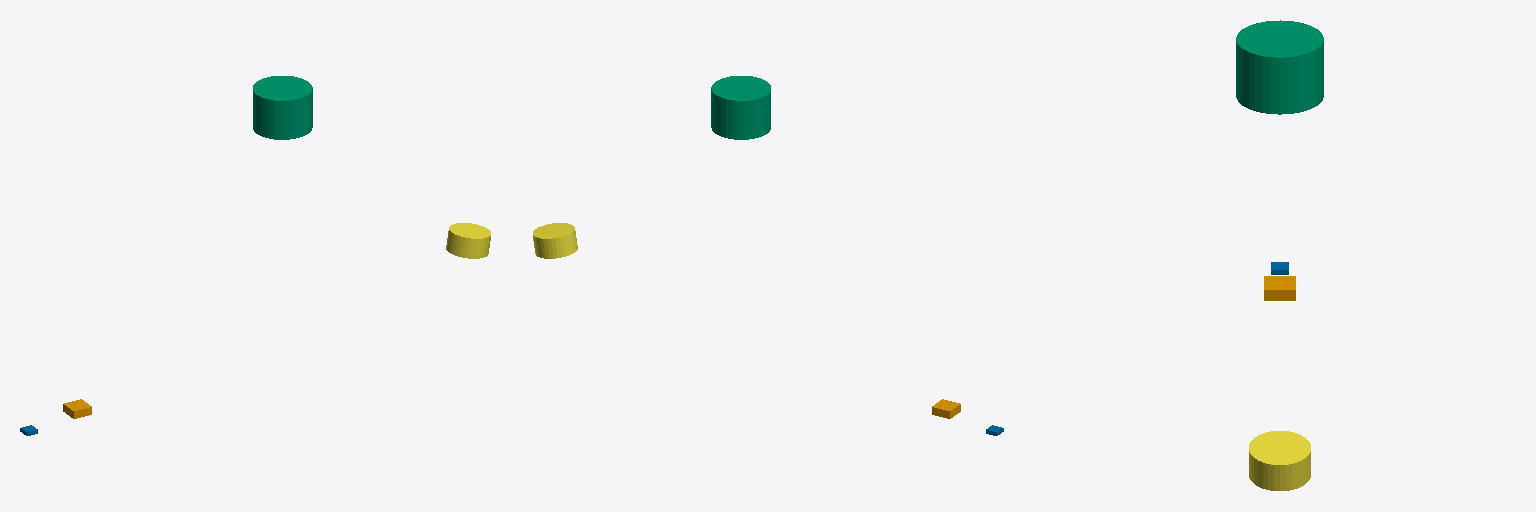
URDF robot description (BLUE):
<?xml version="1.0"?>

<robot name="BLUE">

<link name="base_link">

  <visual name='visual'>
    <geometry>
      <box size="0.05 0.05 0.02"/>
    </geometry>
  </visual>

  <collision name='collision'>
    <geometry>
      <box size="0.05 0.05 0.02"/>
    </geometry>
  </collision>

</link>

<link name="gps"/>

<link name='velodyne'>

  <visual name='visual'>
    <geometry>
      <cylinder length="0.1" radius="0.07"/>
    </geometry>
  </visual>

  <collision name='collision'>
    <geometry>
      <cylinder length="0.1" radius="0.07"/>
    </geometry>
  </collision>
  
</link>

<link name='laser'>

  <visual name='visual'>
    <geometry>
      <cylinder length="0.05" radius="0.05"/>
    </geometry>
  </visual>

  <collision name='collision'>
    <geometry>
      <cylinder length="0.05" radius="0.05"/>
    </geometry>
  </collision>
  
</link>

<link name="imu_link">

  <visual name='visual'>
    <geometry>
      <box size="0.03 0.03 0.01"/>
    </geometry>
  </visual>

  <collision name='collision'>
    <geometry>
      <box size="0.03 0.03 0.01"/>
    </geometry>
  </collision>

</link>


<joint name="base_to_velo" type="fixed">
  <parent link="base_link"/>
  <child link="velodyne"/>
  <origin rpy="0.0 0.0 -0.005" xyz="0.55 0.0 0.645"/>
</joint>

<joint name="base_to_hokuyo" type="fixed">
  <parent link="base_link"/>
  <child link="laser"/>
  <origin rpy="0.0 0.15 0.0" xyz="1.05 0.0 0.187"/>
</joint>

<joint name="base_to_imu" type="fixed">
  <parent link="base_link"/>
  <child link="imu_link"/>
  <origin rpy="0.0 0.0 0.0" xyz="-0.13 0.0 -0.025"/>
</joint>

<joint name="base_to_gps" type="fixed">
  <parent link="base_link"/>
  <child link="gps"/>
  <origin rpy="0.0 0.0 0.0" xyz="0.0 0.0 0.0"/>
</joint>


</robot>

--- What the picture shows (computed from the rendered views, not written in the file) ---
The picture shows the robot from 3 angles, left to right: view 1: azimuth 30°, elevation 25°; view 2: azimuth 150°, elevation 25°; view 3: azimuth 270°, elevation 25°; orthographic projection.
Robot: BLUE — 5 links, 4 joints (4 fixed); root link base_link; default pose: all joints at 0.
Visible links, largest first — view 1: velodyne, laser; view 2: velodyne, laser; view 3: velodyne, laser, base_link.
Boxes of the visible links, x1,y1,x2,y2 form: velodyne: (253,76,312,139); laser: (446,223,490,258); velodyne: (711,76,770,139); laser: (533,223,577,258); velodyne: (1236,20,1323,114); laser: (1249,431,1310,490); base_link: (1264,276,1295,300).
Size in the robot's own frame: 1.25 by 0.14 by 0.725 metres.
Geometry: primitives only (box / cylinder / sphere), no mesh files.
